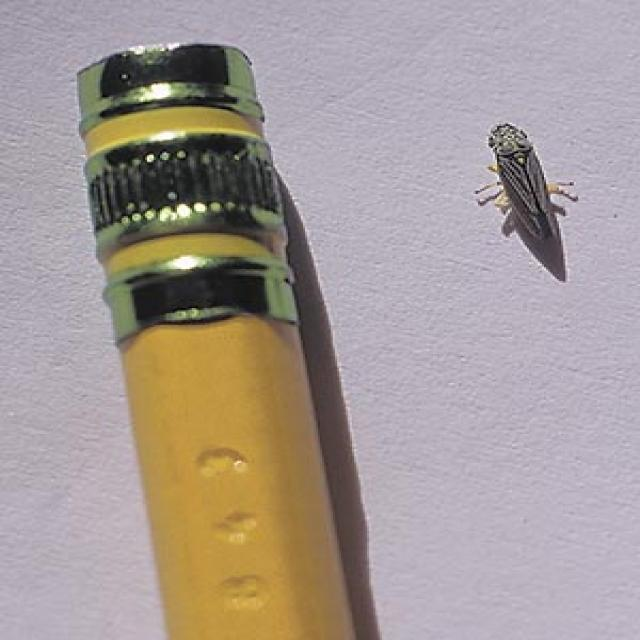Yechan: (474, 116, 582, 253)
